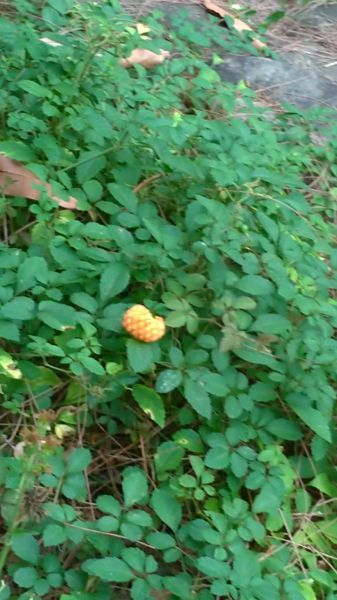eggs: (119, 300, 171, 347)
